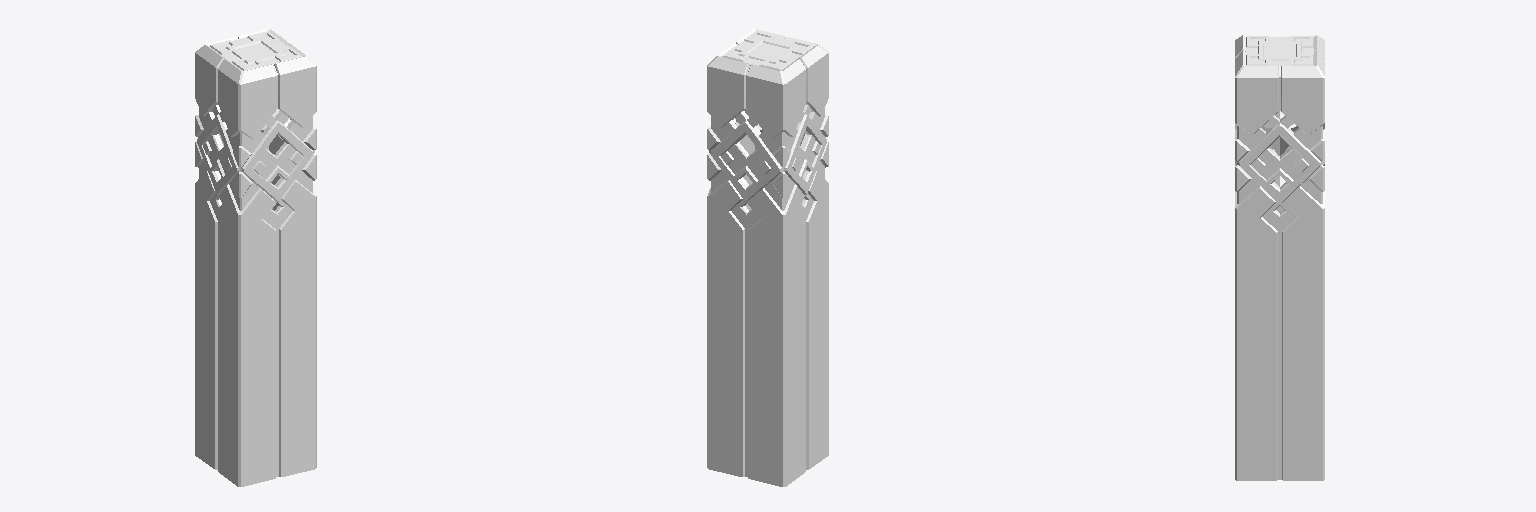
File: zhongskill.obj
The picture shows the model from 3 angles: view 1: azimuth 30°, elevation 25°; view 2: azimuth 150°, elevation 25°; view 3: azimuth 270°, elevation 25°; orthographic projection.
Parts seen in each view (by area): view 1: obj1; view 2: obj1; view 3: obj1.
Boxes of the visible parts, box(x1,y1,x2,y2) form: obj1: box(195, 29, 316, 486); obj1: box(707, 29, 828, 486); obj1: box(1235, 34, 1324, 480).
Bounding box in the file's own units: 4.02 × 20.16 × 4.02.